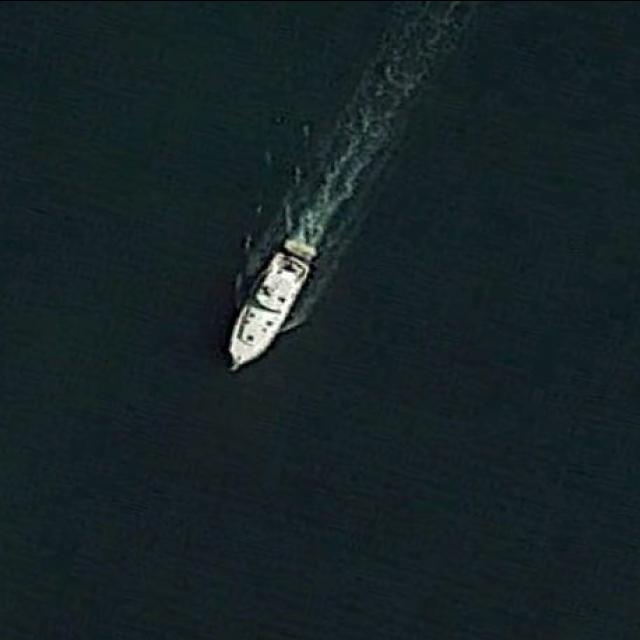ship: (225, 245, 313, 372)
